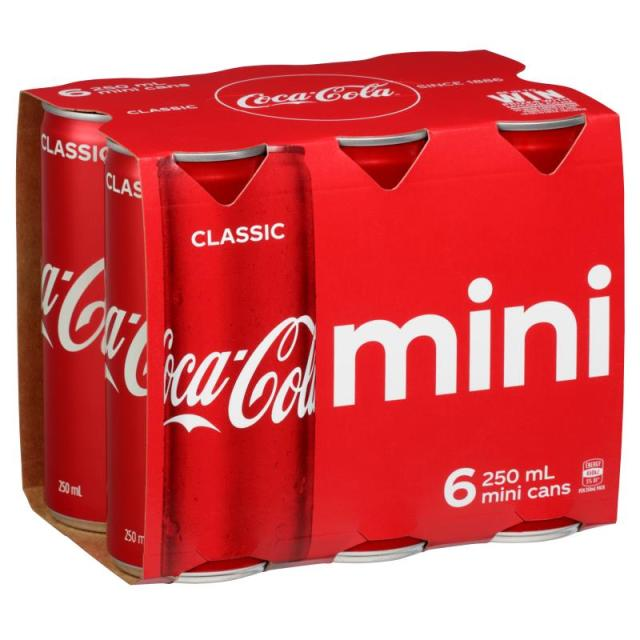cocacola: (119, 135, 315, 590), (36, 90, 111, 581)
